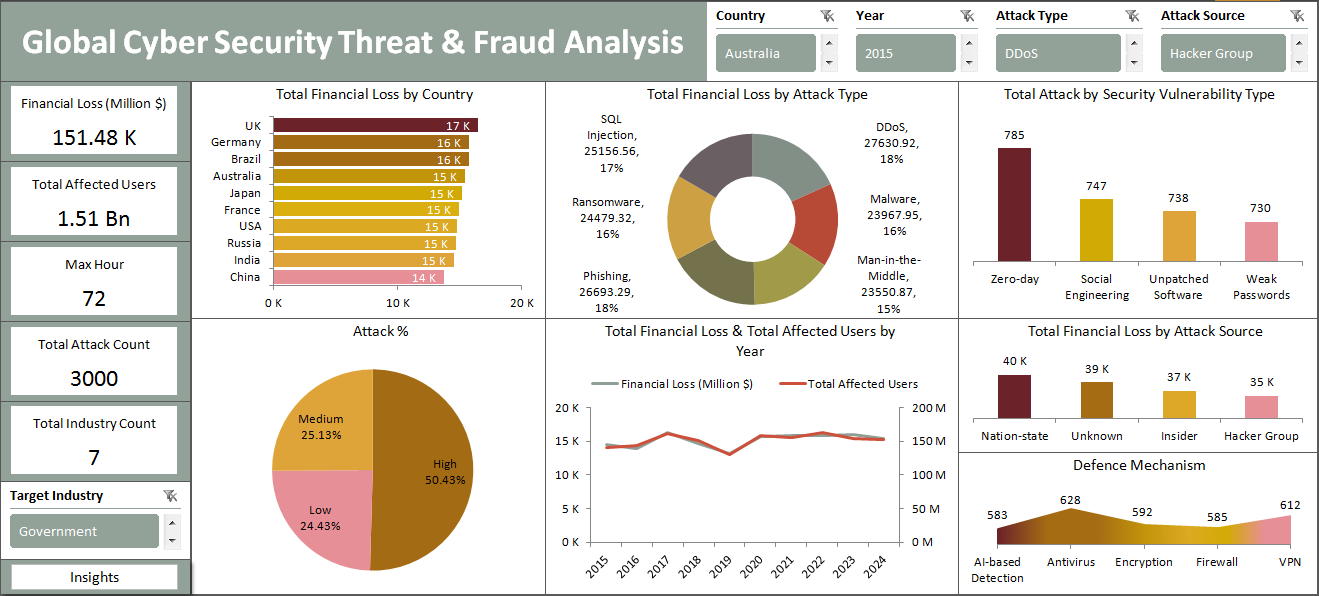

Layout of this report page (visuals, bound fields, positions):
{"tool":"powerbi","page":{"name":"Cyber Attack Analysis & Trends","canvas":[3300,1800],"ordinal":0},"visuals":[{"type":"shape","box":[4,4,1646.3,226.7],"z":0},{"type":"shape","box":[4,239,595.8,234.7],"z":0,"group":"g1"},{"type":"clusteredBarChart","title":"Total Financial Loss by Country","fields":{"Y":["Attack_desc.Financial Loss (Million $)"],"Category":["Global_Cybersecurity_Threats.Country"]},"box":[608.4,238.6,914.6,715.8],"z":1000},{"type":"group","id":"g1","title":"Group 1","box":[4,239,595.8,234.7],"z":1000,"group":"g6"},{"type":"cardVisual","fields":{"Data":["Attack_desc.Financial Loss (Million $)"]},"box":[39.5,260.3,524.8,188.4],"z":1000,"group":"g1"},{"type":"shape","box":[4,477.6,595.8,238.6],"z":1000,"group":"g2"},{"type":"donutChart","title":"Total Financial Loss by Attack Type","fields":{"Y":["Attack_desc.Financial Loss (Million $)"],"Category":["Attack_desc.Attack Type"]},"box":[1531,238.6,954.4,715.8],"z":2000},{"type":"group","id":"g2","title":"Group 2","box":[4,477.6,595.8,238.6],"z":2000,"group":"g6"},{"type":"shape","box":[4,720.3,595.8,234.7],"z":2000,"group":"g3"},{"type":"clusteredColumnChart","title":"Total Attack by Security Vulnerability Type","fields":{"Category":["Global_Cybersecurity_Threats.Security Vulnerability Type"],"Y":["Attack_desc.Total Attact Count"]},"box":[2493.3,238.6,799.3,715.8],"z":3000},{"type":"group","id":"g3","title":"Group 3","box":[4,720.3,595.8,234.7],"z":3000,"group":"g6"},{"type":"group","id":"g4","title":"Group 4","box":[4,958.9,595.8,234.7],"z":4000,"group":"g6"},{"type":"shape","box":[4,958.9,595.8,234.7],"z":4000,"group":"g4"},{"type":"pieChart","title":"Attack % by User Impact","fields":{"Category":["Global_Cybersecurity_Threats.User Impact"],"Y":["Attack_desc.Total Attact Count"]},"box":[608.7,962,914.1,831.5],"z":4000},{"type":"lineChart","title":"Total Financial Loss & Total Affected Users by Year","fields":{"Category":["Global_Cybersecurity_Threats.Year"],"Y":["Attack_desc.Financial Loss (Million $)"],"Y2":["Attack_desc.Total Affected Users"]},"box":[1530.4,962,955.4,831.5],"z":5000},{"type":"group","id":"g5","title":"Group 5","box":[5.1,1196.5,595.8,234.7],"z":5000,"group":"g6"},{"type":"clusteredColumnChart","title":"Total Financial Loss by Attack Source","fields":{"Y":["Attack_desc.Financial Loss (Million $)"],"Category":["Global_Cybersecurity_Threats.Attack Source"]},"box":[2493.3,962.3,799.3,425.5],"z":6000},{"type":"shape","box":[5.1,1196.5,595.8,234.7],"z":6000,"group":"g5"},{"type":"areaChart","title":"Defence Mechanism","fields":{"Category":["Global_Cybersecurity_Threats.Defense Mechanism Used"],"Y":["Attack_desc.Total Attact Count"]},"box":[2493.5,1395.7,798.9,397.8],"z":7000},{"type":"shape","box":[5.1,1646.9,594.9,146.9],"z":7000,"group":"g7"},{"type":"group","id":"g6","title":"Group 6","box":[4,239,596.9,1192.2],"z":8000},{"type":"textbox","box":[39.8,47.7,1610.5,147.1],"z":9000},{"type":"cardVisual","fields":{"Data":["Attack_desc.Total Affected Users"]},"box":[39.5,502.9,524.8,191.6],"z":9000,"group":"g2"},{"type":"cardVisual","fields":{"Data":["Attack_desc.Max Hour"]},"box":[39.5,741.6,524.8,188.4],"z":9501,"group":"g3"},{"type":"advancedSlicerVisual","fields":{"Values":["Global_Cybersecurity_Threats.Target Industry"]},"box":[4,1435.5,596.5,202.8],"z":10000},{"type":"cardVisual","fields":{"Data":["Attack_desc.Total Attact Count"]},"box":[39.5,980.2,524.8,188.4],"z":10001,"group":"g4"},{"type":"cardVisual","fields":{"Data":["Attack_desc.Total Industry Count"]},"box":[40.6,1217.8,524.8,188.4],"z":10501,"group":"g5"},{"type":"advancedSlicerVisual","fields":{"Values":["Global_Cybersecurity_Threats.Country"]},"box":[1658.2,4,405.6,226.7],"z":11000},{"type":"advancedSlicerVisual","fields":{"Values":["Global_Cybersecurity_Threats.Year"]},"box":[2067.8,4,405.6,226.7],"z":12000},{"type":"advancedSlicerVisual","fields":{"Values":["Attack_desc.Attack Type"]},"box":[2477.4,4,405.6,226.7],"z":13000},{"type":"advancedSlicerVisual","fields":{"Values":["Global_Cybersecurity_Threats.Attack Source"]},"box":[2887,4,405.6,226.7],"z":14000},{"type":"group","id":"g7","title":"Group 7","box":[5.1,1646.9,594.9,146.9],"z":15000},{"type":"actionButton","title":"Insights","box":[40,1664.2,524.2,110.5],"z":15001,"group":"g7"}]}

Visuals, with their boxes on the page's 3300x1800 design canvas (x1, y1, x2, y2). These are canvas units, not pixel positions in the 1319x596 screenshot, which may show the page scaled, cropped or inside an application window:
shape: 4, 4, 1650, 231
shape: 4, 239, 600, 474
"Total Financial Loss by Country" clusteredBarChart: 608, 239, 1523, 954
"Group 1" group: 4, 239, 600, 474
cardVisual - Attack_desc.Financial Loss (Million $): 40, 260, 564, 449
shape: 4, 478, 600, 716
"Total Financial Loss by Attack Type" donutChart: 1531, 239, 2485, 954
"Group 2" group: 4, 478, 600, 716
shape: 4, 720, 600, 955
"Total Attack by Security Vulnerability Type" clusteredColumnChart: 2493, 239, 3293, 954
"Group 3" group: 4, 720, 600, 955
"Group 4" group: 4, 959, 600, 1194
shape: 4, 959, 600, 1194
"Attack % by User Impact" pieChart: 609, 962, 1523, 1794
"Total Financial Loss & Total Affected Users by Year" lineChart: 1530, 962, 2486, 1794
"Group 5" group: 5, 1196, 601, 1431
"Total Financial Loss by Attack Source" clusteredColumnChart: 2493, 962, 3293, 1388
shape: 5, 1196, 601, 1431
"Defence Mechanism" areaChart: 2494, 1396, 3292, 1794
shape: 5, 1647, 600, 1794
"Group 6" group: 4, 239, 601, 1431
textbox: 40, 48, 1650, 195
cardVisual - Attack_desc.Total Affected Users: 40, 503, 564, 694
cardVisual - Attack_desc.Max Hour: 40, 742, 564, 930
advancedSlicerVisual - Global_Cybersecurity_Threats.Target Industry: 4, 1436, 600, 1638
cardVisual - Attack_desc.Total Attact Count: 40, 980, 564, 1169
cardVisual - Attack_desc.Total Industry Count: 41, 1218, 565, 1406
advancedSlicerVisual - Global_Cybersecurity_Threats.Country: 1658, 4, 2064, 231
advancedSlicerVisual - Global_Cybersecurity_Threats.Year: 2068, 4, 2473, 231
advancedSlicerVisual - Attack_desc.Attack Type: 2477, 4, 2883, 231
advancedSlicerVisual - Global_Cybersecurity_Threats.Attack Source: 2887, 4, 3293, 231
"Group 7" group: 5, 1647, 600, 1794
"Insights" actionButton: 40, 1664, 564, 1775
